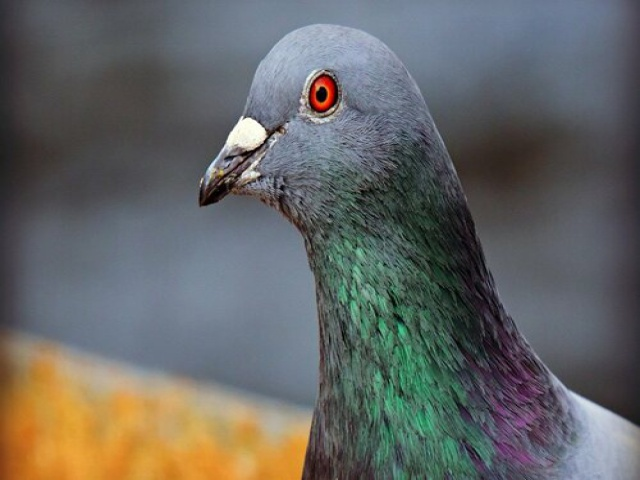Pigeon: (194, 22, 613, 478)
